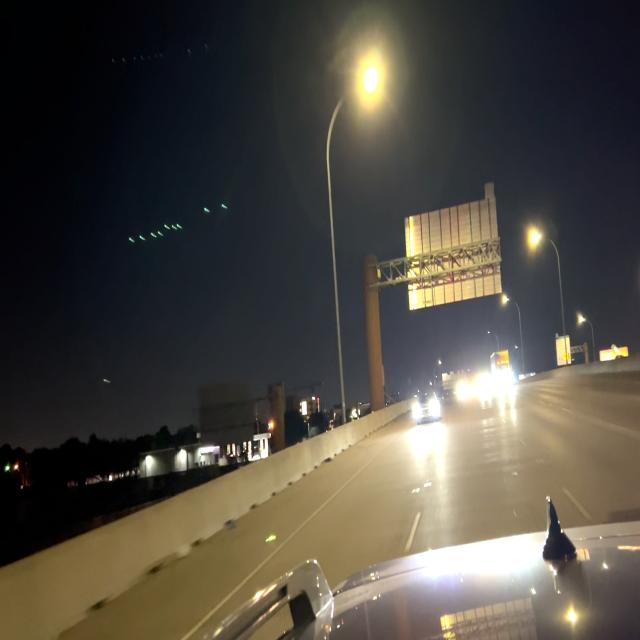back-of-sign: (405, 177, 503, 306), (194, 376, 256, 445)
